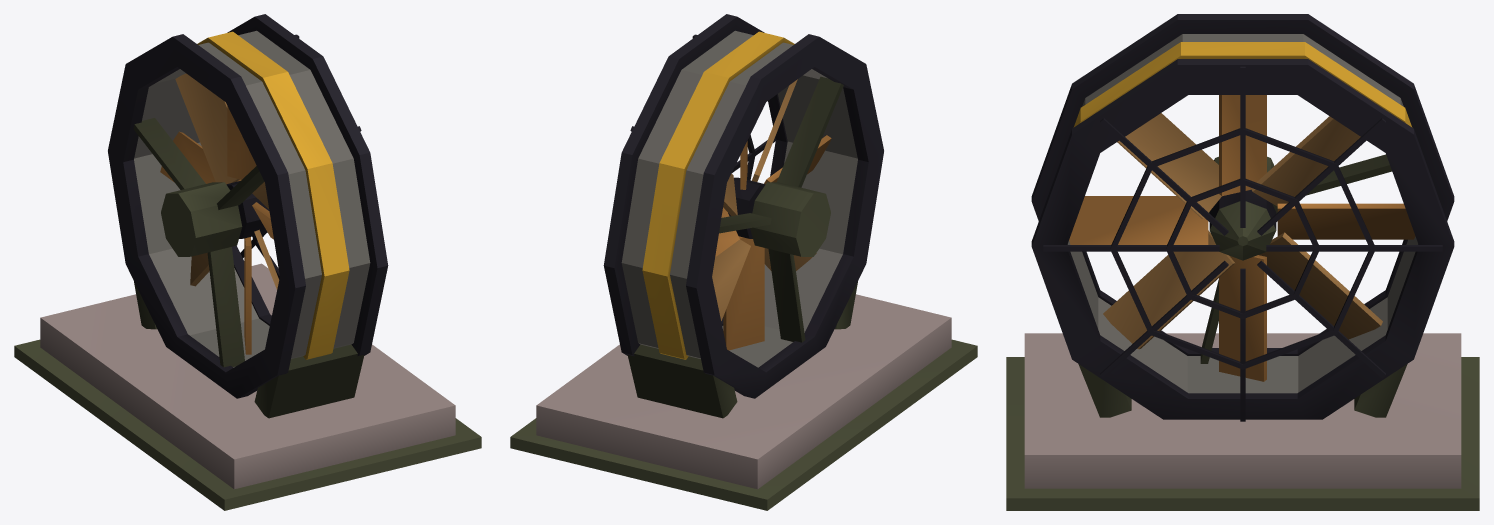
The picture shows the model from 3 angles, left to right: view 1: azimuth 30°, elevation 25°; view 2: azimuth 150°, elevation 25°; view 3: azimuth 270°, elevation 25°; orthographic projection. The views are drawn at different scales.
Parts seen in each view (by area): view 1: body_pal_picketWhite, fanRotor_pal_picketWhite; view 2: body_pal_picketWhite, fanRotor_pal_picketWhite; view 3: body_pal_picketWhite, fanRotor_pal_picketWhite.
Boxes of the visible parts, <box> form: body_pal_picketWhite: <box>14,14,481,510</box>; fanRotor_pal_picketWhite: <box>160,73,279,354</box>; body_pal_picketWhite: <box>510,14,977,510</box>; fanRotor_pal_picketWhite: <box>712,79,831,350</box>; body_pal_picketWhite: <box>1006,14,1479,510</box>; fanRotor_pal_picketWhite: <box>1069,95,1415,381</box>.
Bounding box in the file's own units: 7.2 × 9.53 × 10.2.
